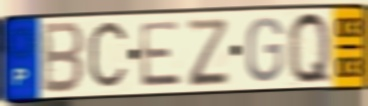B: (40, 20, 87, 96)
C: (85, 17, 131, 96)
E: (138, 19, 185, 90)
G: (244, 15, 286, 84)
Q: (285, 8, 335, 87)
Z: (184, 17, 232, 89)
